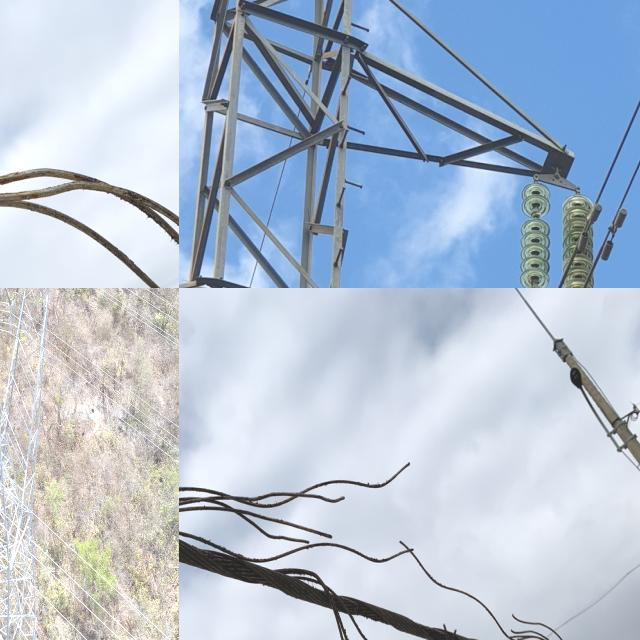杆塔: (179, 0, 559, 288), (0, 288, 109, 640)
正常电缆: (592, 90, 640, 237)
正常绝缘子: (520, 177, 552, 288), (560, 196, 595, 288), (3, 288, 13, 309)
电缆破损: (179, 447, 582, 640), (0, 157, 179, 288)
绝缘子破损: (530, 211, 542, 218)
